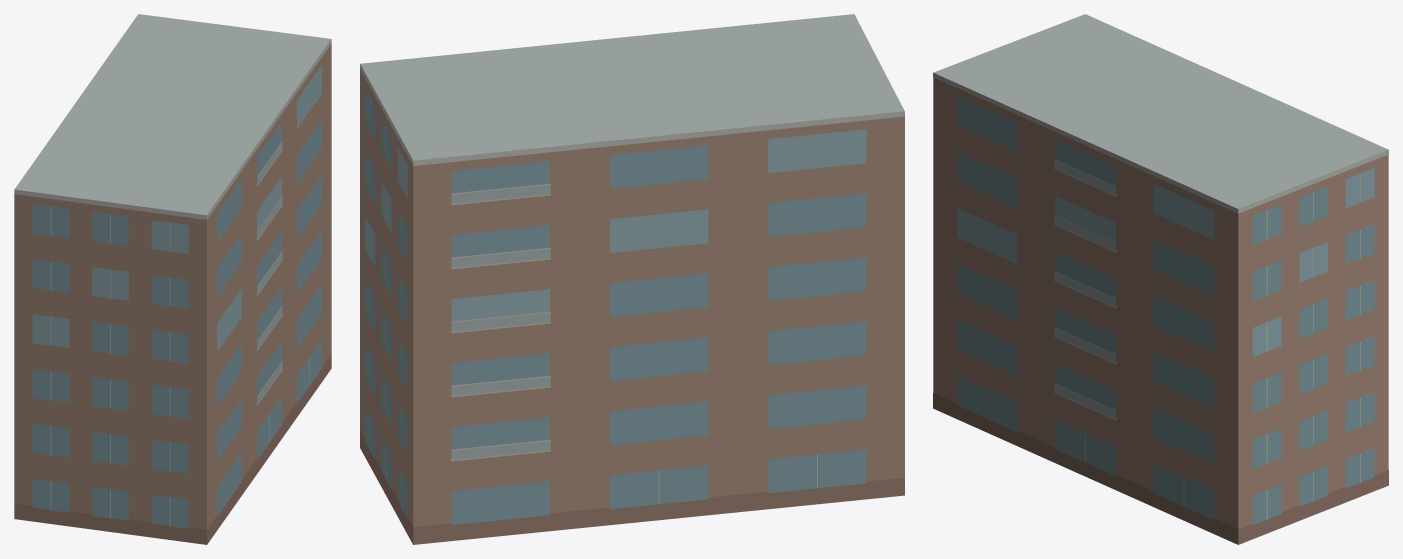
The model's file is survey-upis-32840481.glb.
3 views of the same model, side by side, from view 1: azimuth 30°, elevation 25°; view 2: azimuth 150°, elevation 25°; view 3: azimuth 270°, elevation 25° (orthographic). The views are drawn at different scales.
Visible parts, largest first — view 1: survey-upis-32840481.tmp; view 2: survey-upis-32840481.tmp; view 3: survey-upis-32840481.tmp.
Part boxes in pixels (left/top/right/bottom): survey-upis-32840481.tmp: left=14, top=14, right=331, bottom=544; survey-upis-32840481.tmp: left=360, top=14, right=904, bottom=544; survey-upis-32840481.tmp: left=933, top=14, right=1388, bottom=544.
Bounding box in the file's own units: 21.8 × 17.5 × 21.52.
